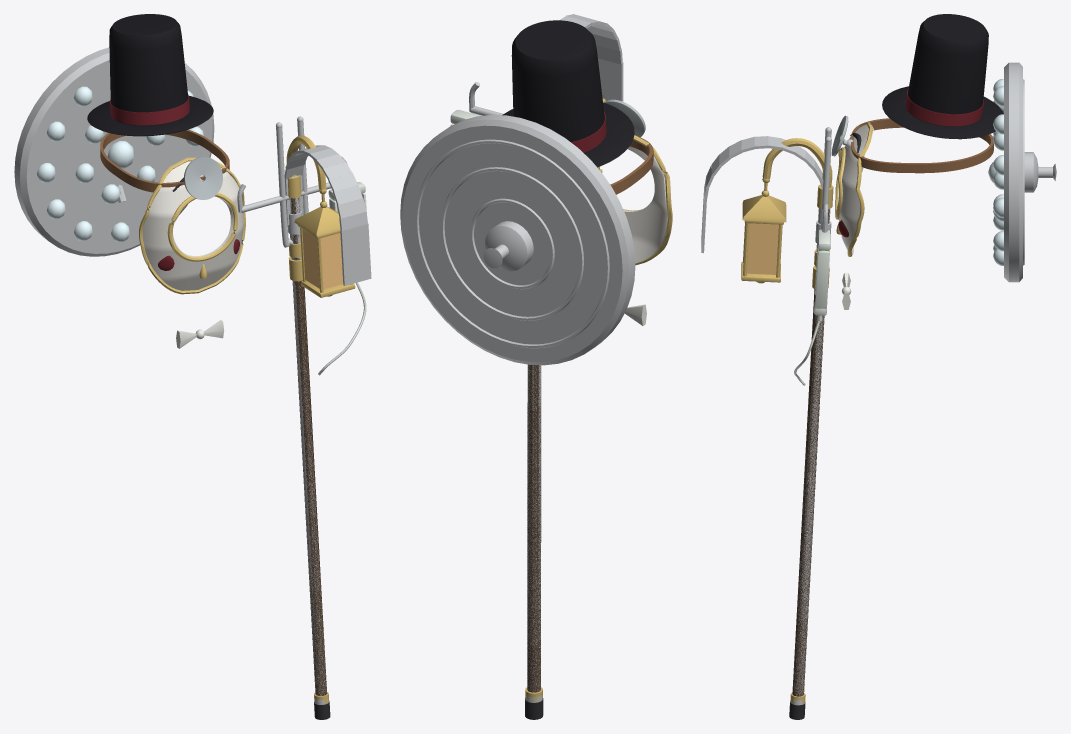
Rendered from accessori_temi.fbx.
3 renders of one model, left to right at view 1: azimuth 30°, elevation 25°; view 2: azimuth 150°, elevation 25°; view 3: azimuth 270°, elevation 25°, orthographic. The views are drawn at different scales.
Visible parts, largest first — view 1: acc_scialitica_acciaio, acc_cilindro_seta_nera, acc_uncino_acciaio, acc_maschera_porcellana, acc_scialitica_luce_fredda, acc_diapason_legno_scuro, acc_lanterna_ottone, acc_flebo_acciaio, acc_lanterna_legno_scuro, acc_maschera_oro, acc_lanterna_luce_calda, acc_specchio_cuoio (+5 smaller); view 2: acc_scialitica_acciaio, acc_cilindro_seta_nera, acc_diapason_legno_scuro, acc_uncino_acciaio, acc_flebo_acciaio, acc_maschera_porcellana, acc_lanterna_legno_scuro, acc_specchio_cuoio, acc_maschera_oro, acc_specchio_specchio, acc_cilindro_nastro; view 3: acc_cilindro_seta_nera, acc_scialitica_acciaio, acc_diapason_legno_scuro, acc_lanterna_ottone, acc_uncino_acciaio, acc_flebo_acciaio, acc_specchio_cuoio, acc_maschera_porcellana, acc_scialitica_luce_fredda, acc_lanterna_legno_scuro, acc_lanterna_luce_calda, acc_flebo_plastica (+3 smaller).
Part boxes in pixels (box(x1,y1,x2,y2)): acc_scialitica_acciaio: box(14, 47, 214, 256); acc_cilindro_seta_nera: box(87, 14, 213, 136); acc_uncino_acciaio: box(284, 145, 371, 695); acc_maschera_porcellana: box(142, 161, 244, 290); acc_scialitica_luce_fredda: box(37, 86, 204, 242); acc_diapason_legno_scuro: box(294, 280, 326, 695); acc_lanterna_ottone: box(286, 135, 355, 704); acc_flebo_acciaio: box(237, 156, 347, 695); acc_lanterna_legno_scuro: box(290, 197, 326, 695); acc_maschera_oro: box(139, 157, 245, 294); acc_lanterna_luce_calda: box(302, 229, 343, 289); acc_specchio_cuoio: box(100, 129, 229, 192); acc_scialitica_acciaio: box(400, 114, 635, 365); acc_cilindro_seta_nera: box(502, 20, 634, 167); acc_diapason_legno_scuro: box(527, 365, 540, 692); acc_uncino_acciaio: box(527, 14, 623, 692); acc_flebo_acciaio: box(469, 82, 541, 692); acc_maschera_porcellana: box(623, 146, 667, 262); acc_lanterna_legno_scuro: box(527, 365, 541, 692); acc_specchio_cuoio: box(610, 136, 653, 194); acc_maschera_oro: box(623, 135, 672, 265); acc_specchio_specchio: box(604, 99, 645, 137); acc_cilindro_nastro: box(571, 111, 606, 152); acc_cilindro_seta_nera: box(882, 14, 1003, 139); acc_scialitica_acciaio: box(1004, 62, 1056, 282); acc_diapason_legno_scuro: box(792, 289, 824, 696); acc_lanterna_ottone: box(741, 138, 833, 704); acc_uncino_acciaio: box(701, 136, 831, 695); acc_flebo_acciaio: box(792, 172, 830, 695); acc_specchio_cuoio: box(851, 118, 993, 173); acc_maschera_porcellana: box(838, 125, 873, 254); acc_scialitica_luce_fredda: box(988, 79, 1003, 265); acc_lanterna_legno_scuro: box(793, 209, 829, 695); acc_lanterna_luce_calda: box(746, 223, 778, 274); acc_flebo_plastica: box(794, 229, 830, 385).
Bounding box in the file's own units: 0.8034 × 2.03 × 1.01.
